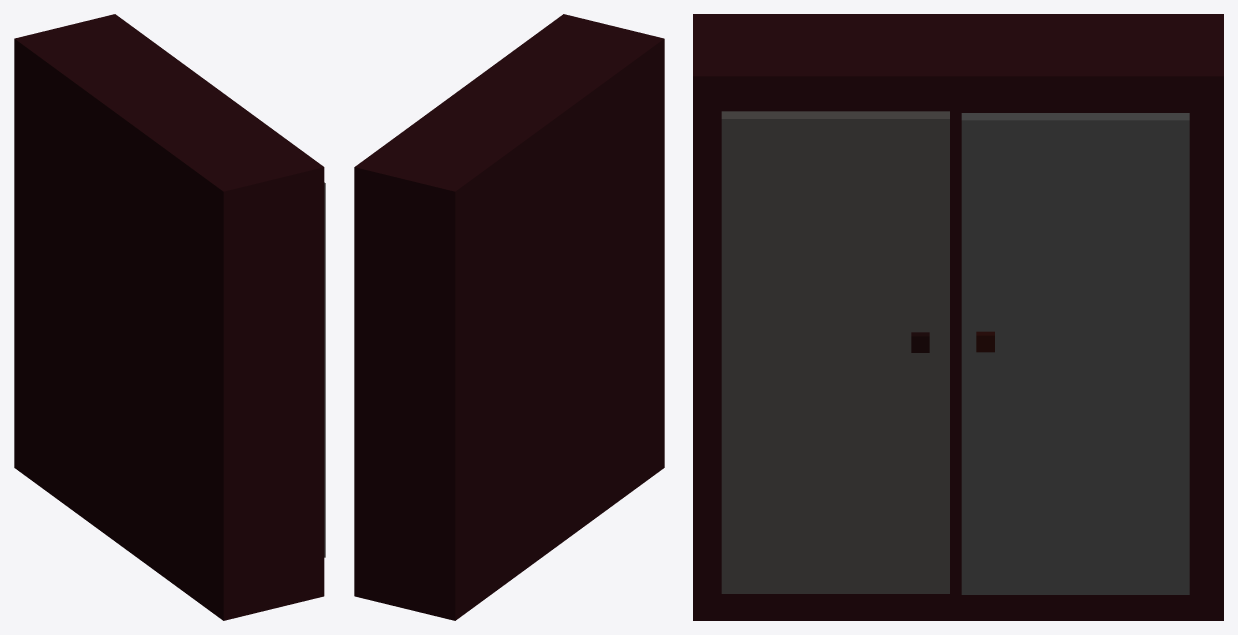
Rendered from Schrank_zu.fbx.
3 views of the same model, side by side, from view 1: azimuth 30°, elevation 25°; view 2: azimuth 150°, elevation 25°; view 3: azimuth 270°, elevation 25° (orthographic). The views are drawn at different scales.
Visible parts, largest first — view 1: Cube, Würfel; view 2: Cube; view 3: Würfel, Würfel.001, Cube.
Boxes of the visible parts, box(x1,y1,x2,y2) form: Cube: box(14, 14, 324, 620); Würfel: box(324, 182, 325, 557); Cube: box(354, 14, 664, 620); Würfel: box(721, 111, 949, 593); Würfel.001: box(961, 113, 1189, 594); Cube: box(693, 14, 1223, 620).
Bounding box in the file's own units: 469 × 1601 × 1415.
